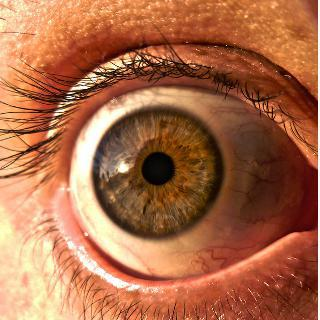pupil: (141, 152, 174, 186)
